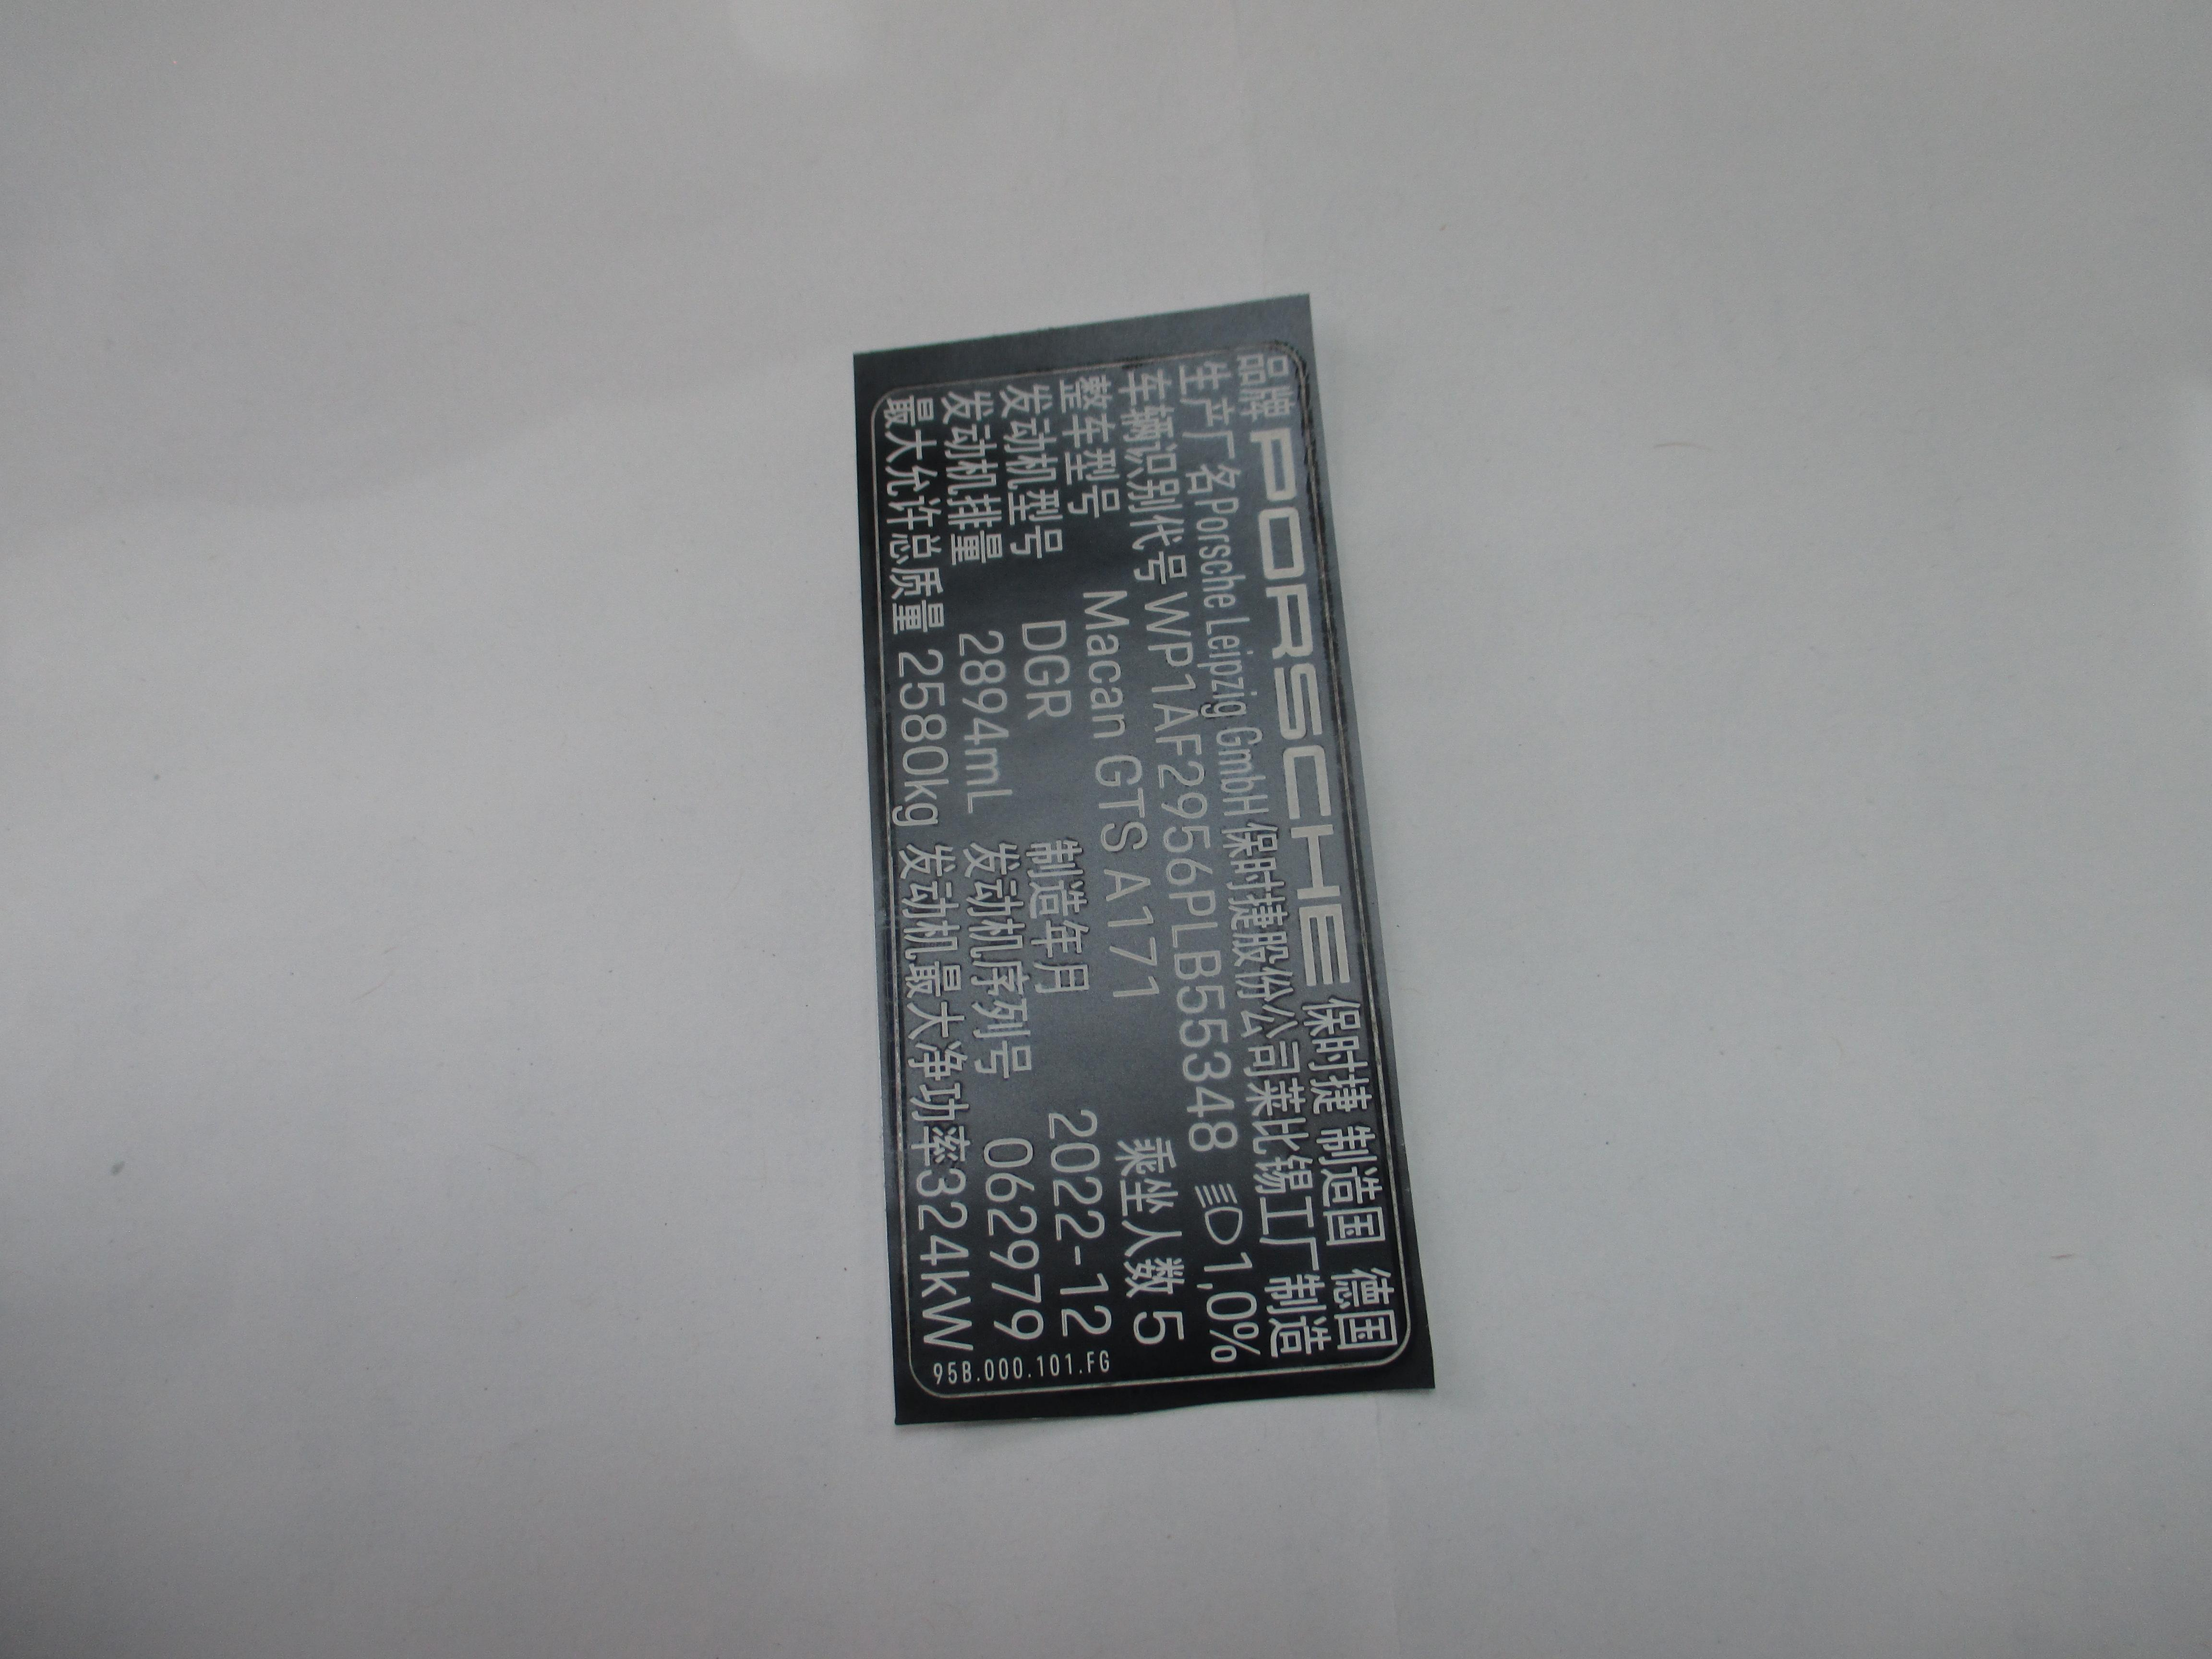Sign: (874, 343, 1411, 1401)
